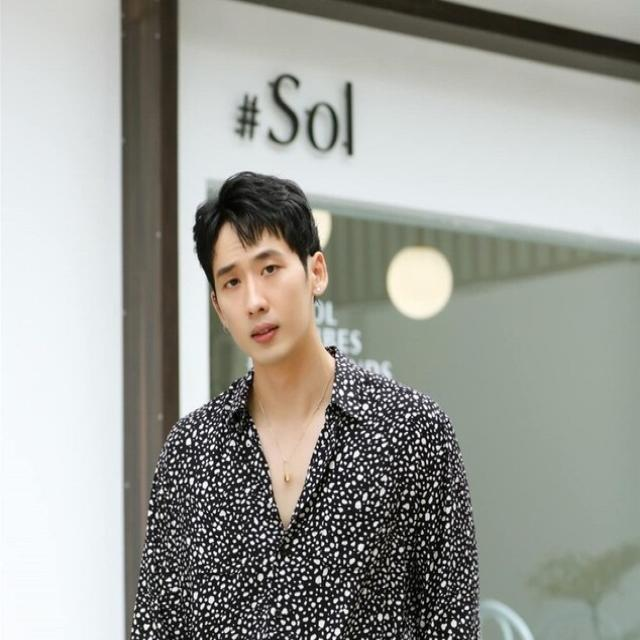Nonhelmet: (186, 169, 333, 365)
